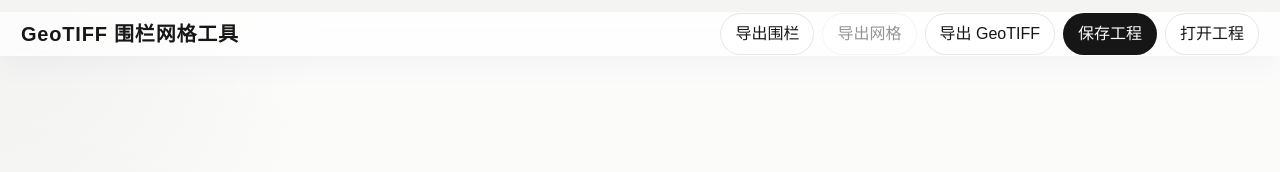
Scenario: ExportControls › shows success and failure messages for geotiff export
This screenshot has width=1280, height=172.
Click the button "导出 GeoTIFF" at [990, 34], box [924,13,1055,55]
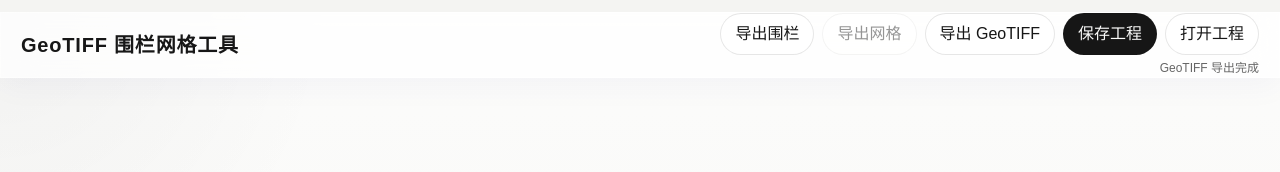
Result: the text "GeoTIFF 导出完成" is shown at [1160,59,1259,77]
Click the button "导出 GeoTIFF" at [990, 34], box [924,13,1055,55]
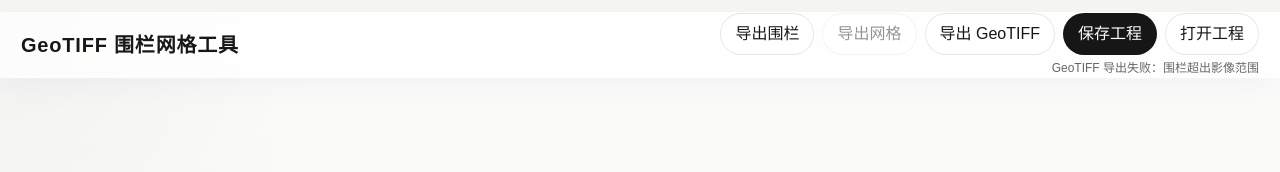
Result: the text "GeoTIFF 导出失败：围栏超出影像范围" is shown at [1052,59,1259,77]
